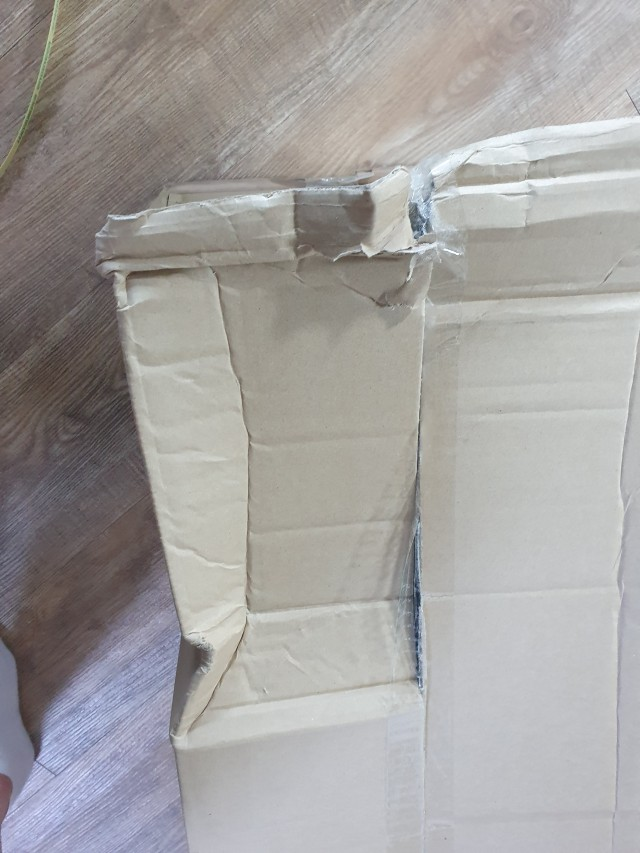damaged package: (105, 150, 468, 286), (374, 445, 445, 725), (184, 590, 281, 737)
